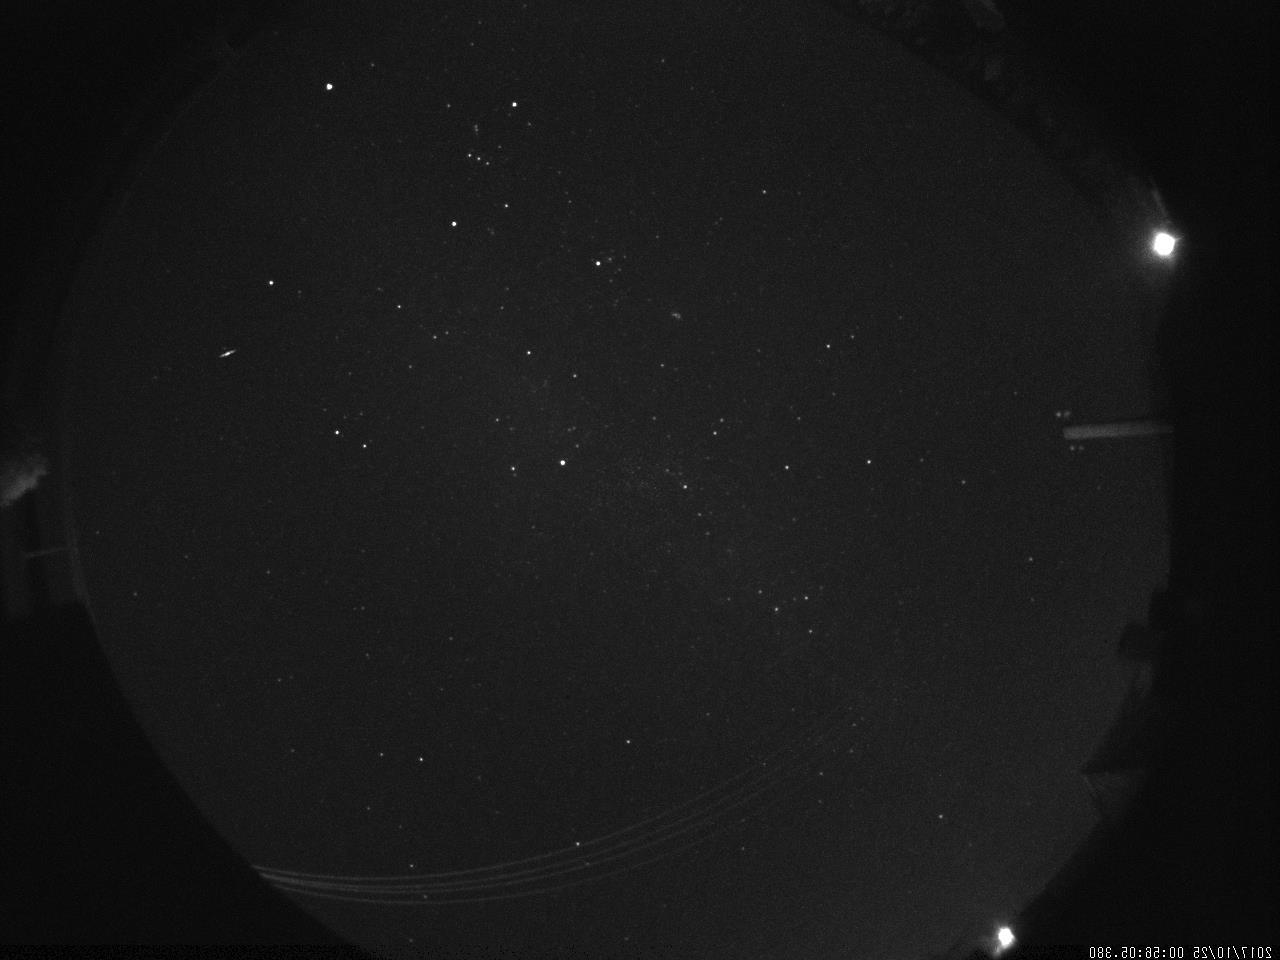meteor: (213, 337, 246, 364)
